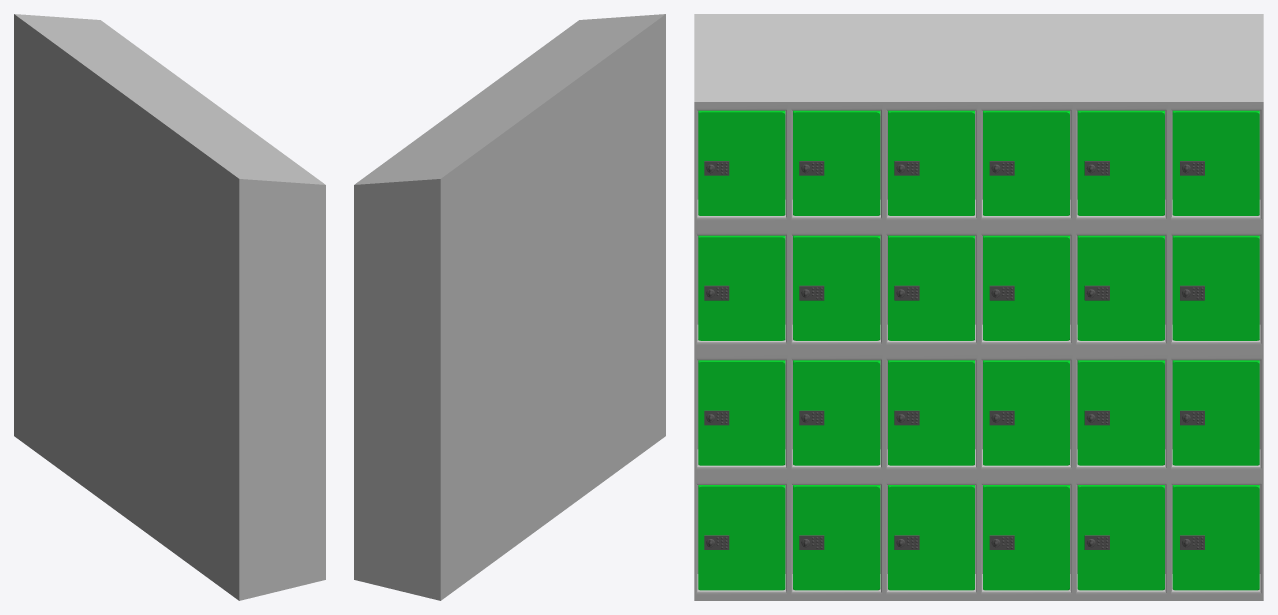
The model's file is SpindModell.fbx.
3 views of the same model, side by side, from view 1: azimuth 30°, elevation 25°; view 2: azimuth 150°, elevation 25°; view 3: azimuth 270°, elevation 25° (orthographic). The views are drawn at different scales.
Visible parts, largest first — view 1: Cube.002; view 2: Cube.002; view 3: Cube.002.
Part boxes in pixels (left/top/right/bottom): Cube.002: left=14, top=14, right=325, bottom=600; Cube.002: left=354, top=14, right=665, bottom=600; Cube.002: left=694, top=14, right=1263, bottom=600.
Size of the model in its own units: 51.46 by 233 by 225.
